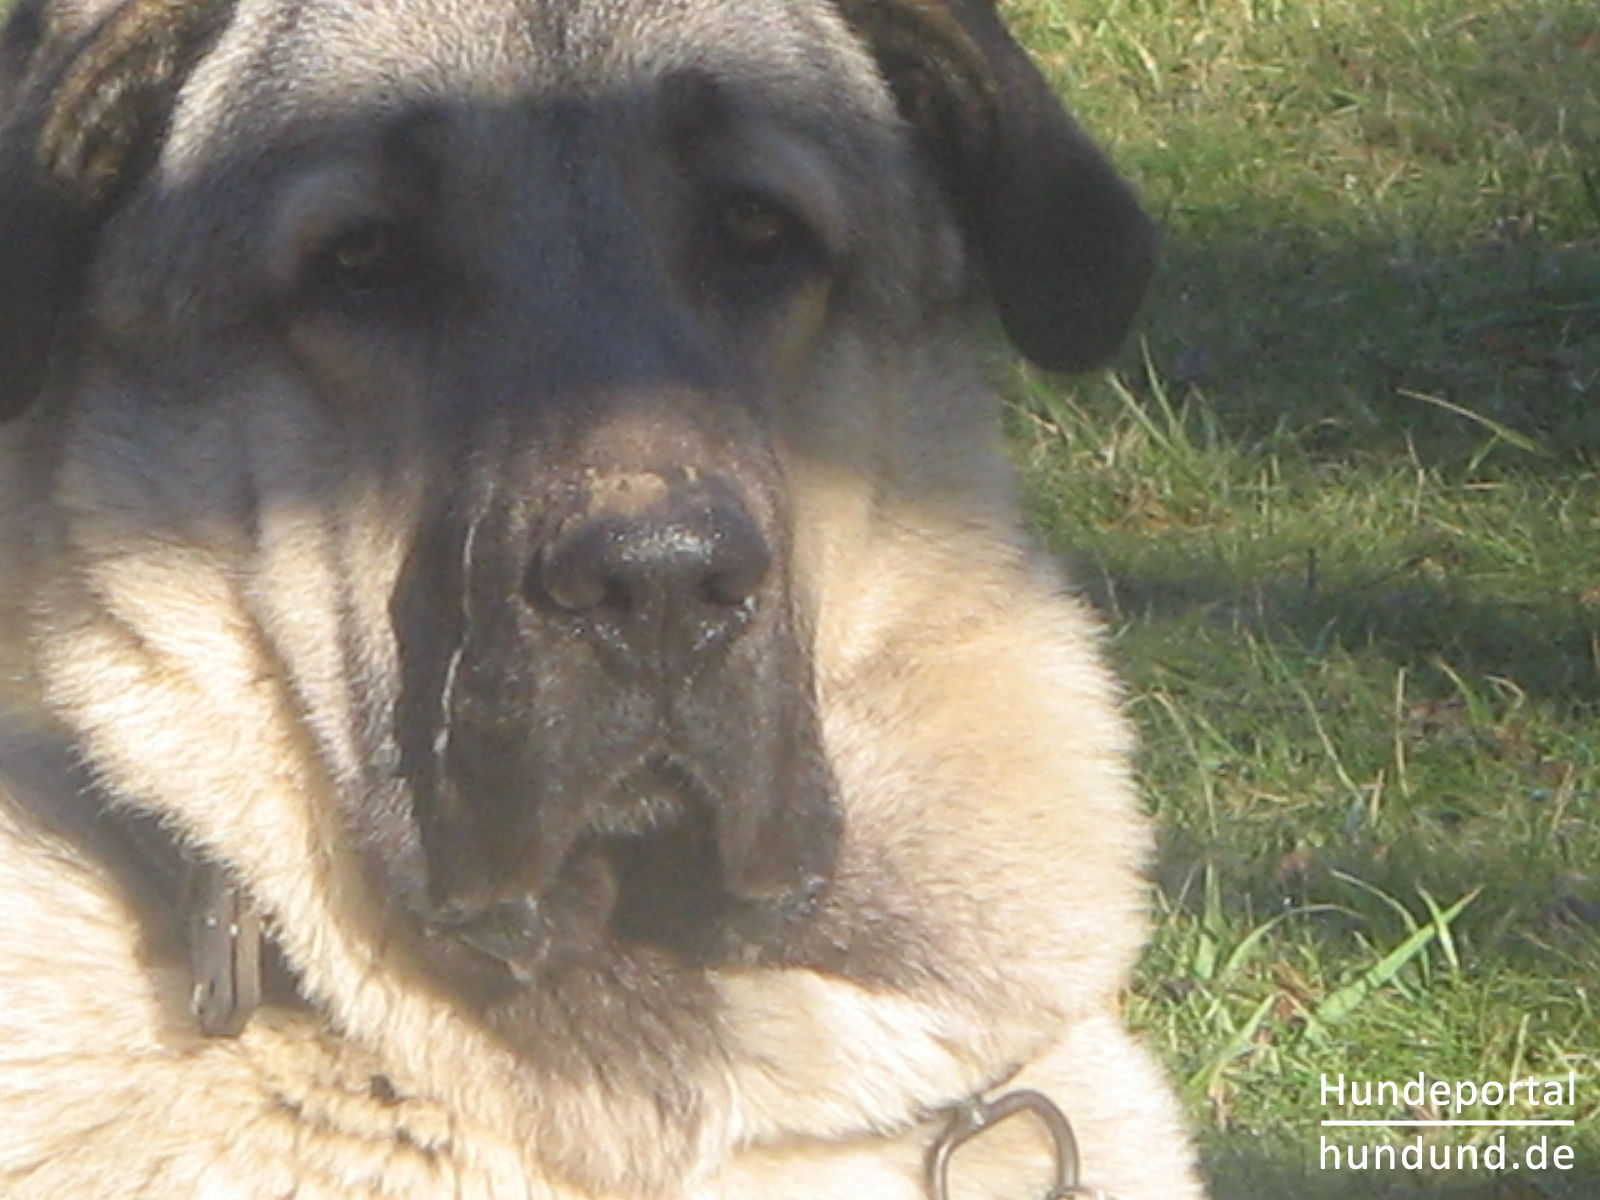kangal: (0, 0, 1211, 1200)
